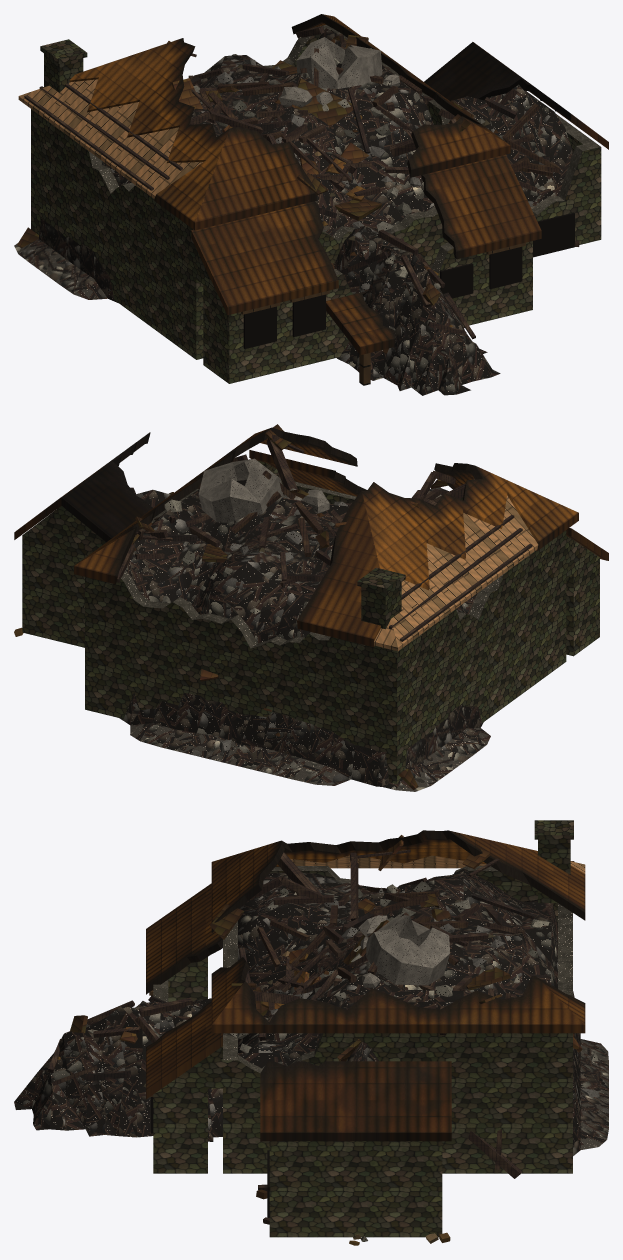
File: CreHouse06a.glb
The picture shows the model from 3 angles, top to bottom: view 1: azimuth 30°, elevation 25°; view 2: azimuth 150°, elevation 25°; view 3: azimuth 270°, elevation 25°; orthographic projection. The views are drawn at different scales.
Visible parts, largest first — view 1: CreHouse06a_rm; view 2: CreHouse06a_rm; view 3: CreHouse06a_rm.
Part boxes in pixels (x1,y1,x2,y2): CreHouse06a_rm: [14, 14, 608, 395]; CreHouse06a_rm: [14, 424, 608, 791]; CreHouse06a_rm: [14, 820, 608, 1245].
Bounding box in the file's own units: 13.61 × 6.35 × 14.25.
Materials: 29 (27 with a texture image).
